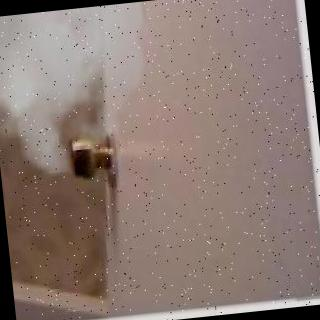smoke: (0, 0, 174, 177)
